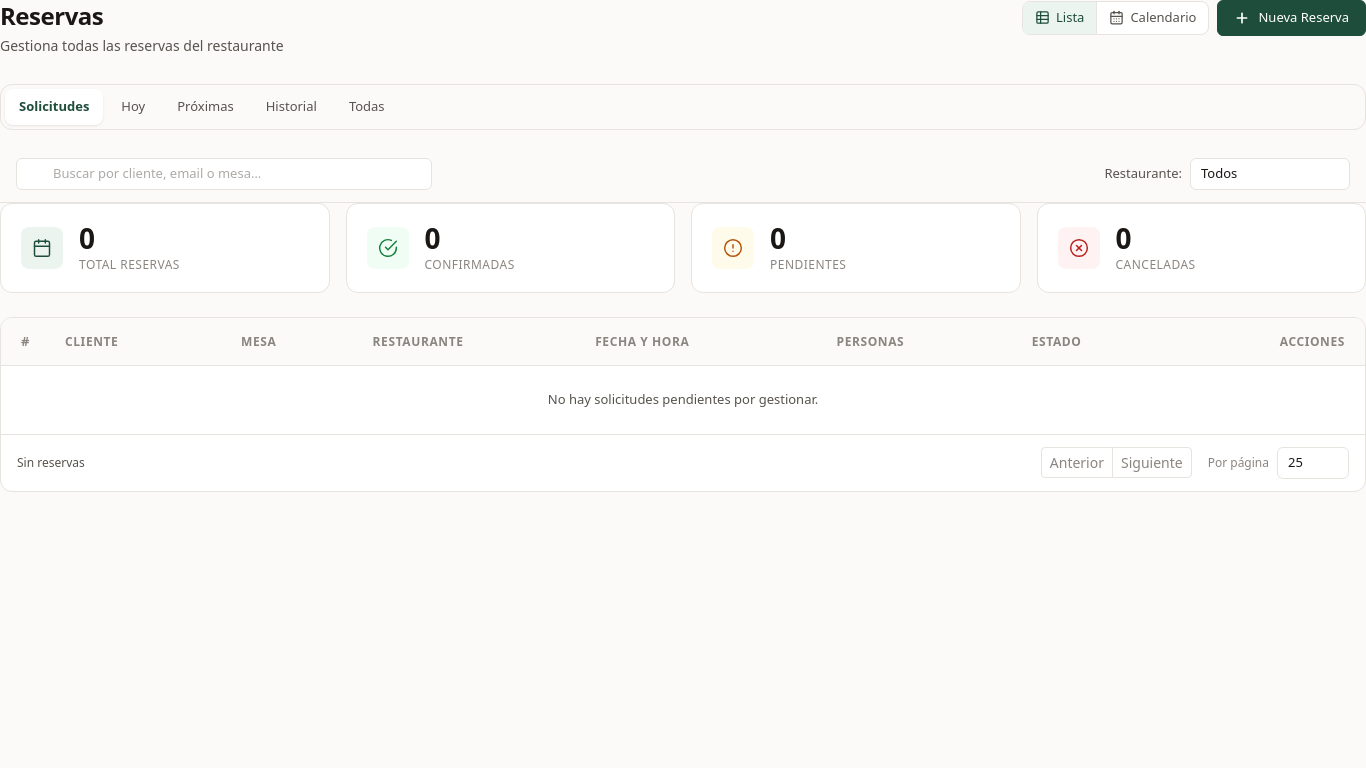
Scenario: Wizard de nueva reserva › no deja avanzar a la selección de mesa sin hora elegida
Click the button titled "Nueva reserva". click: (1292, 18)
box: [1218,0,1365,36]
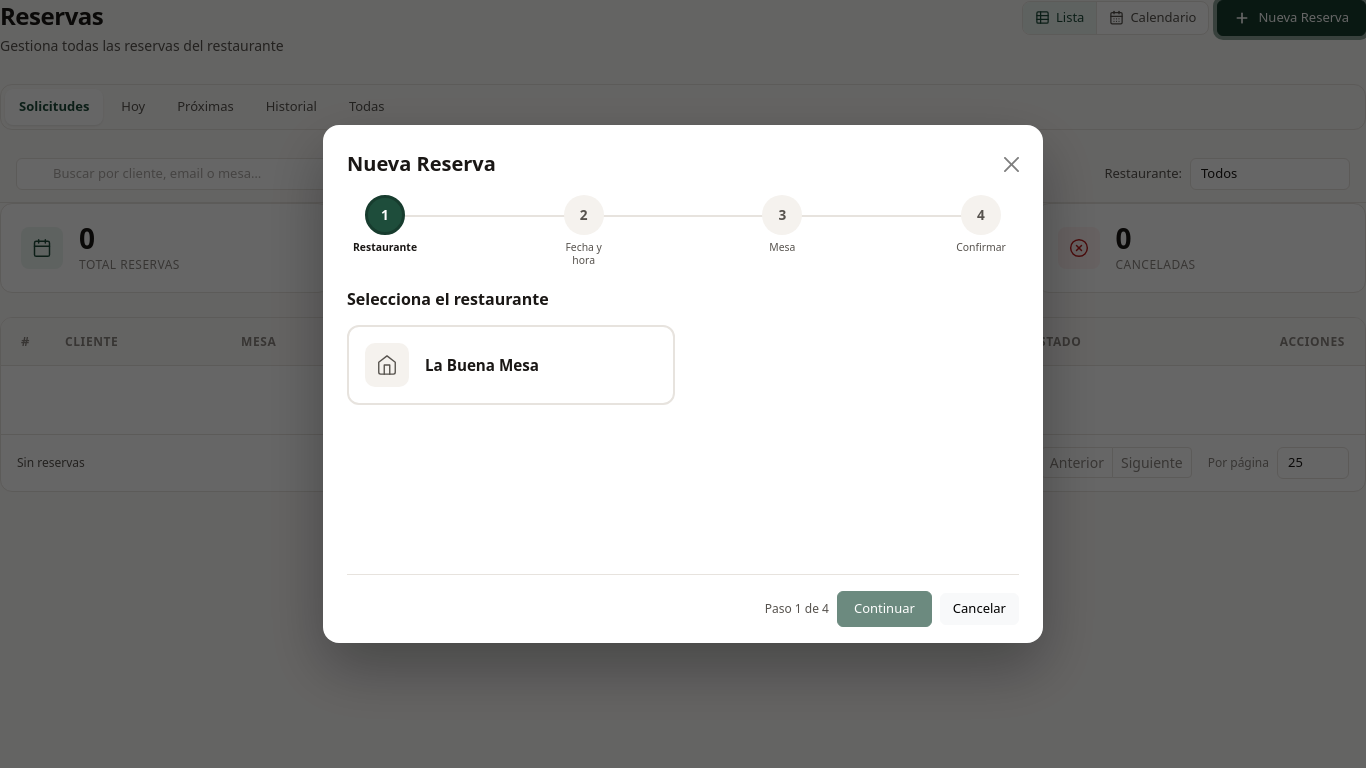
Click the button "La Buena Mesa". click: (511, 365)
box: [347,325,675,405]
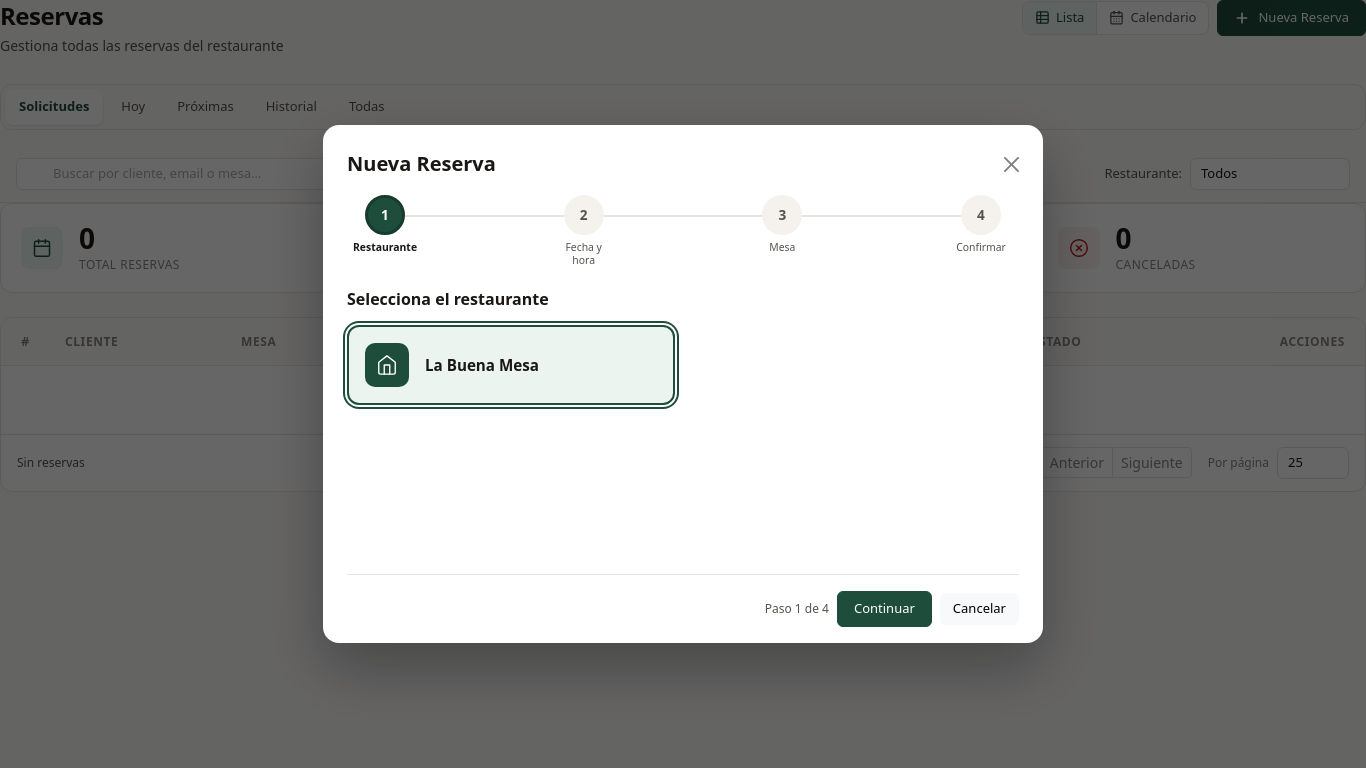
Click the button "Continuar". click: (884, 609)
box: [837,591,932,627]
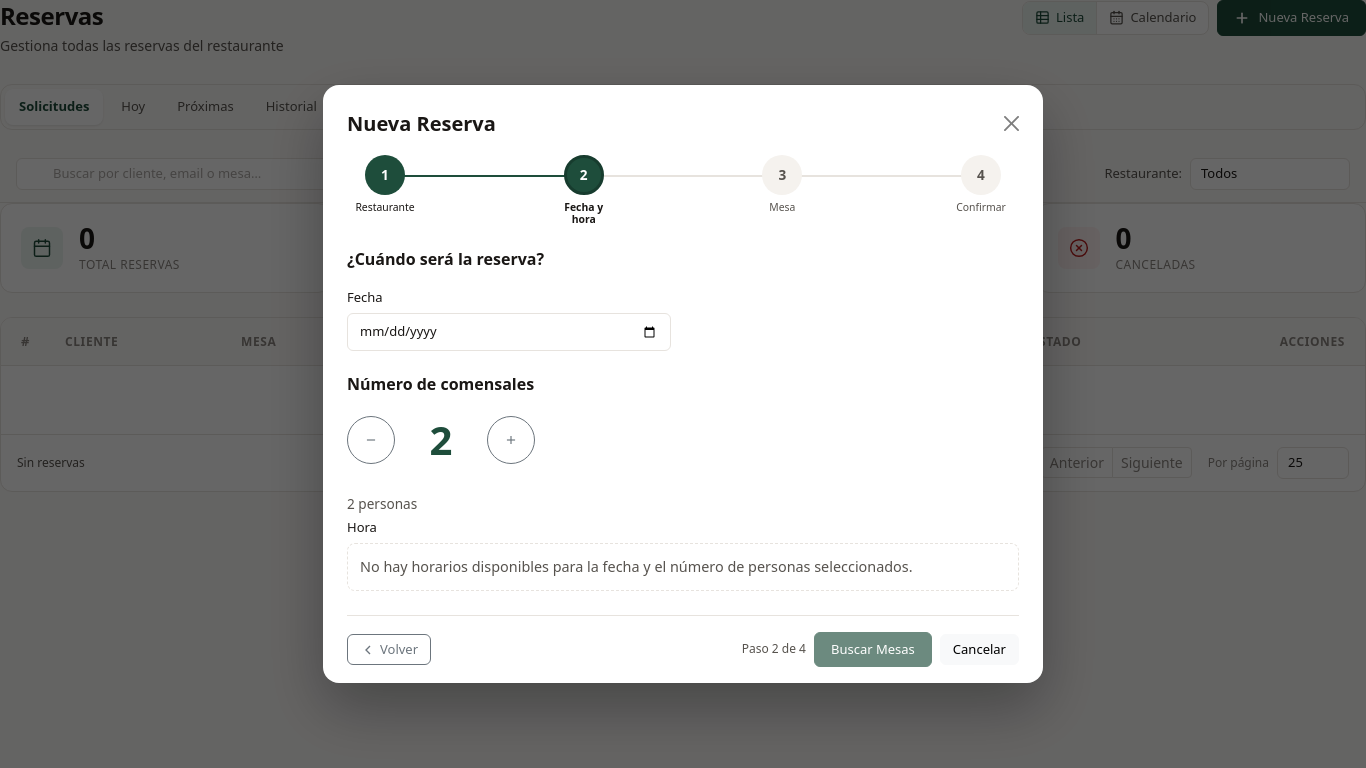
Type "2026-08-15" into the date field labelled "Fecha". click: (509, 332)
box: [347,314,671,351]
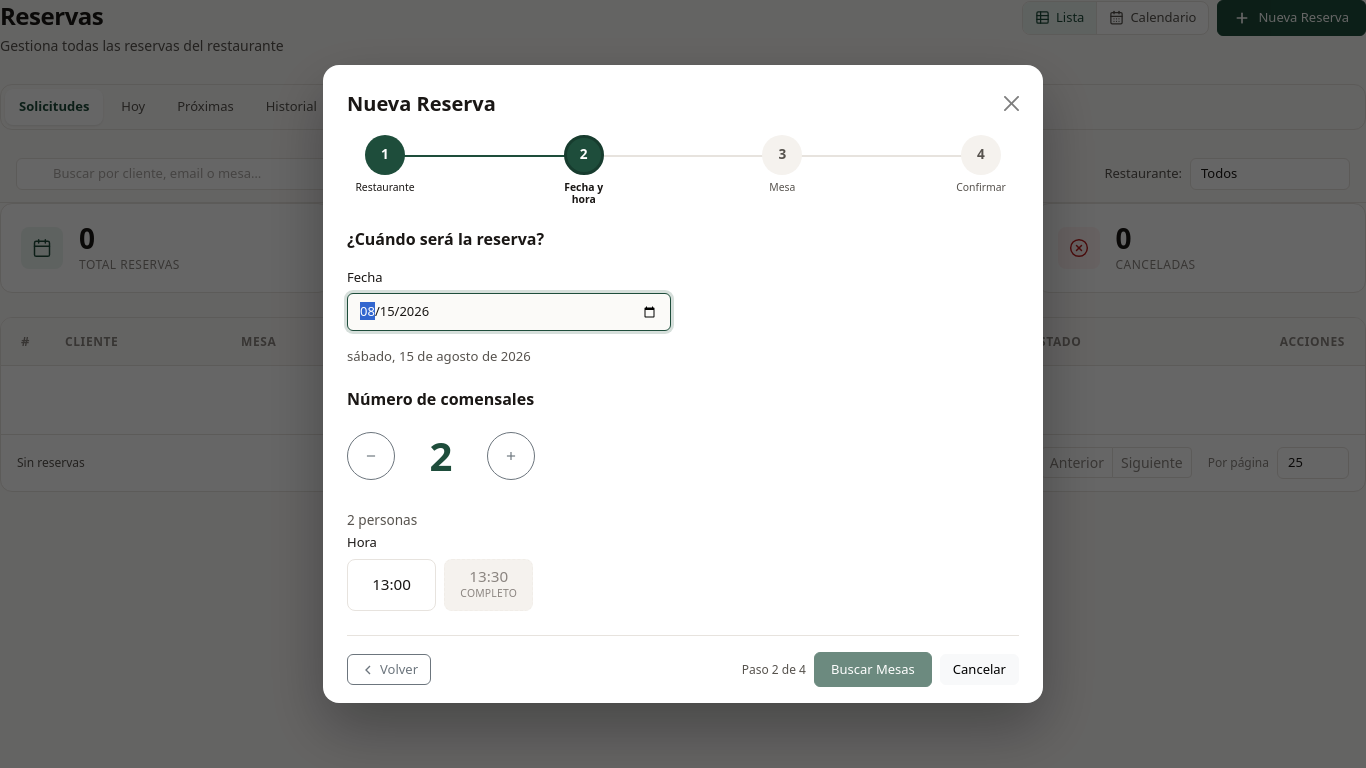
expect the button "Buscar Mesas" is disabled: met, box [814,652,932,687]
expect the button "13:00" is shown: met, box [347,558,436,611]
